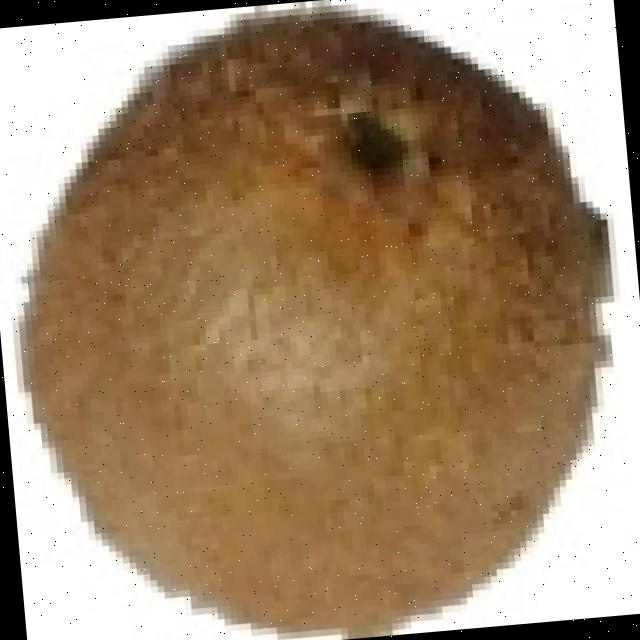kiwi: (13, 24, 597, 639)
